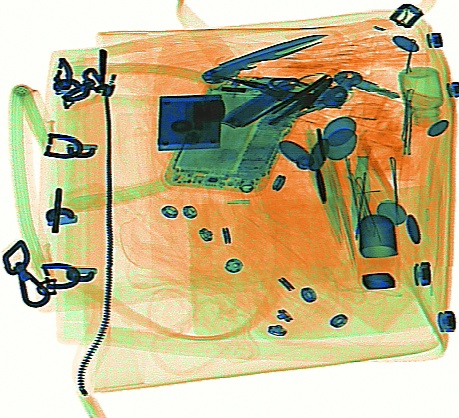knife: (200, 31, 328, 86)
